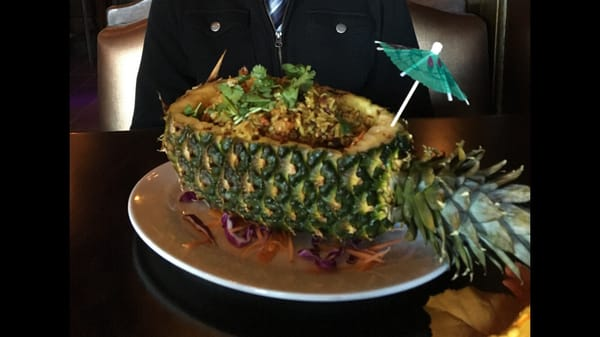curry: (69, 117, 534, 332)
sandwich: (157, 63, 529, 285), (158, 62, 410, 243)
